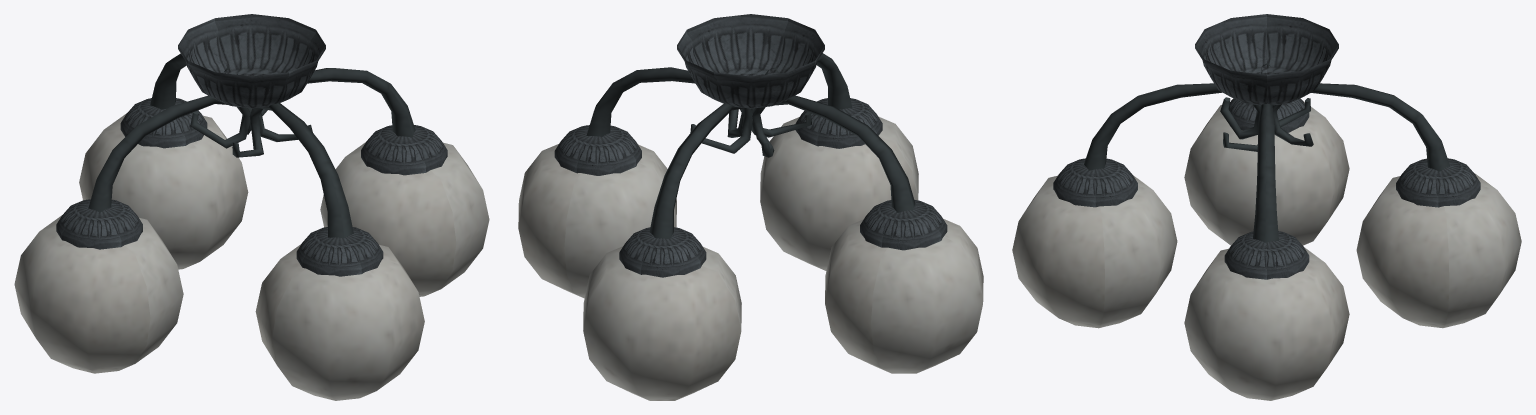
Rendered from lamp_04_ceiling_lamp.fbx.
3 renders of one model, left to right at view 1: azimuth 30°, elevation 25°; view 2: azimuth 150°, elevation 25°; view 3: azimuth 270°, elevation 25°, orthographic. The views are drawn at different scales.
Visible parts, largest first — view 1: lamp_04_ceiling_lamp; view 2: lamp_04_ceiling_lamp; view 3: lamp_04_ceiling_lamp.
Part boxes in pixels (box(x1,y1,x2,y2)): lamp_04_ceiling_lamp: box(14, 14, 489, 400); lamp_04_ceiling_lamp: box(518, 14, 983, 400); lamp_04_ceiling_lamp: box(1012, 14, 1521, 400).
Size of the model in its own units: 94.56 by 56.55 by 94.56.
